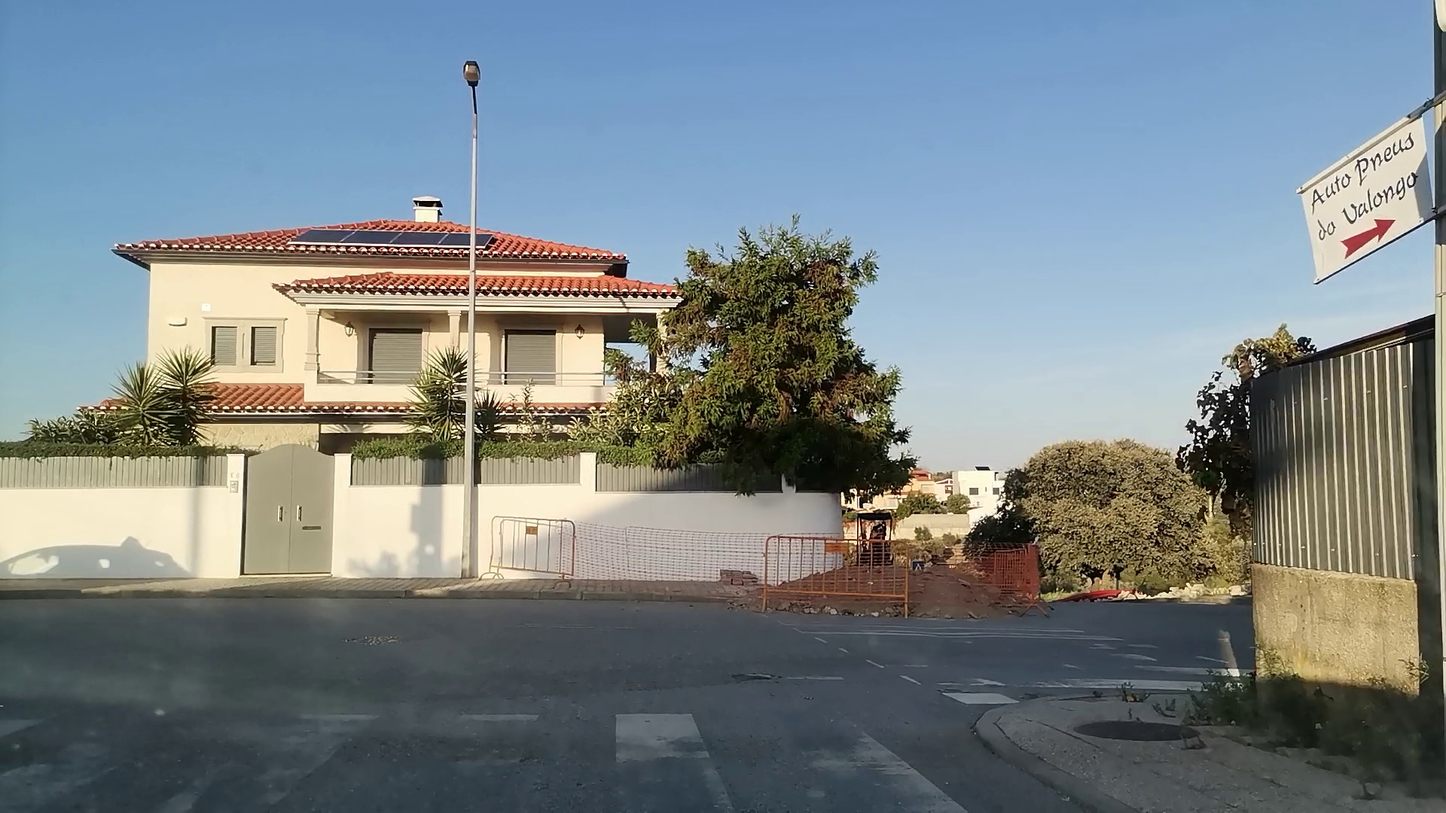Stairs: (773, 612, 1250, 686)
